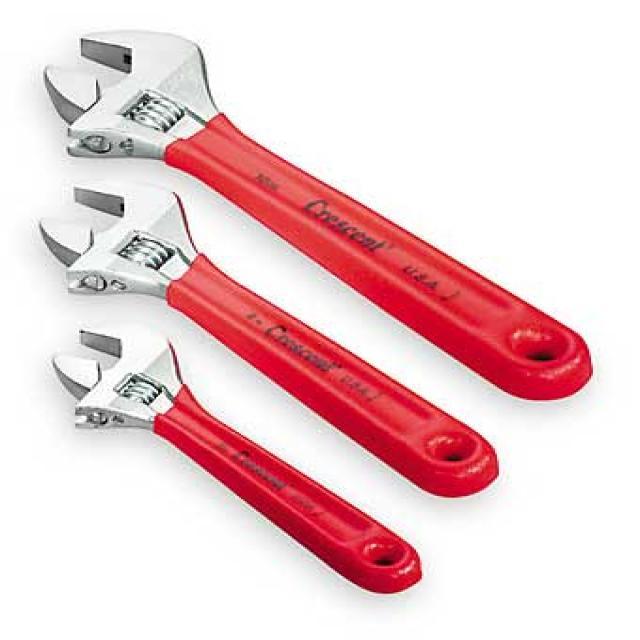wrench: (33, 8, 500, 183), (19, 301, 217, 507)
